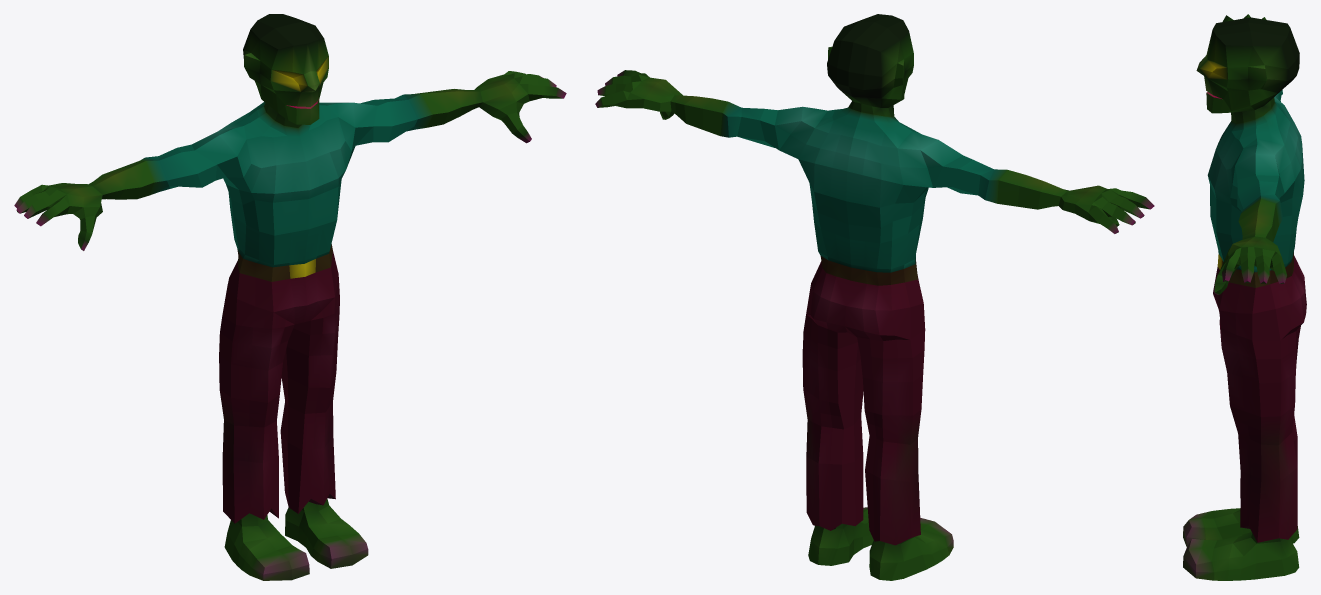
The model's file is ZombieModel.fbx.
3 renders of one model, left to right at view 1: azimuth 30°, elevation 25°; view 2: azimuth 150°, elevation 25°; view 3: azimuth 270°, elevation 25°, orthographic.
Visible parts, largest first — view 1: ZombieMesh; view 2: ZombieMesh; view 3: ZombieMesh.
Boxes of the visible parts, x1,y1,x2,y2 form: ZombieMesh: [14, 14, 566, 580]; ZombieMesh: [595, 14, 1154, 580]; ZombieMesh: [1183, 14, 1306, 580].
Bounding box in the file's own units: 1031 × 971 × 206.
